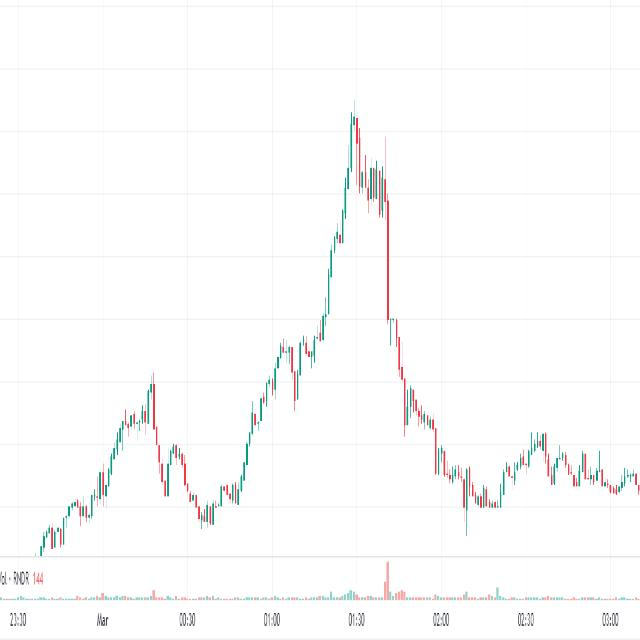Rounding-Bottom: (149, 374, 277, 536)
